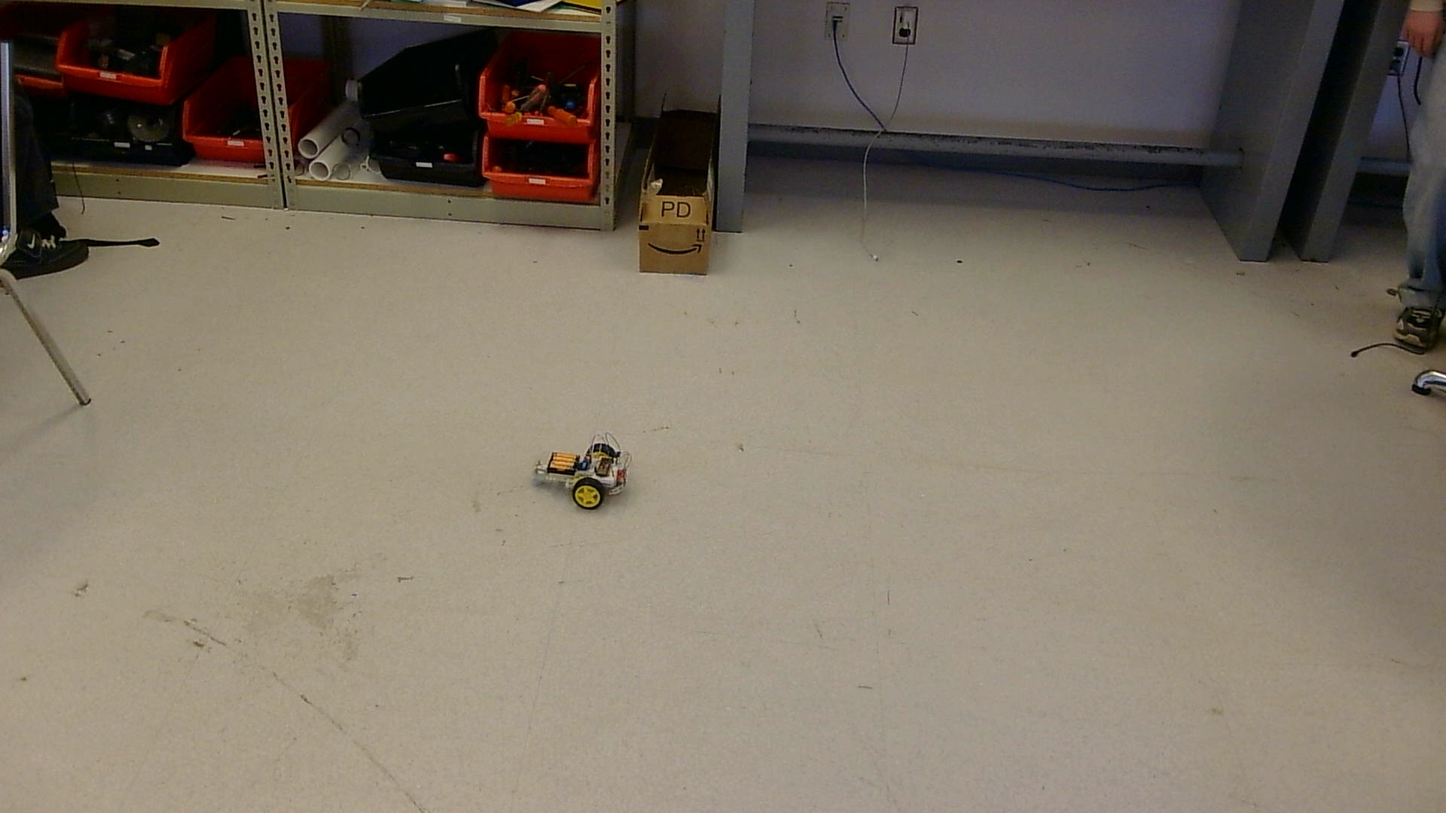robot: (535, 433, 630, 510)
